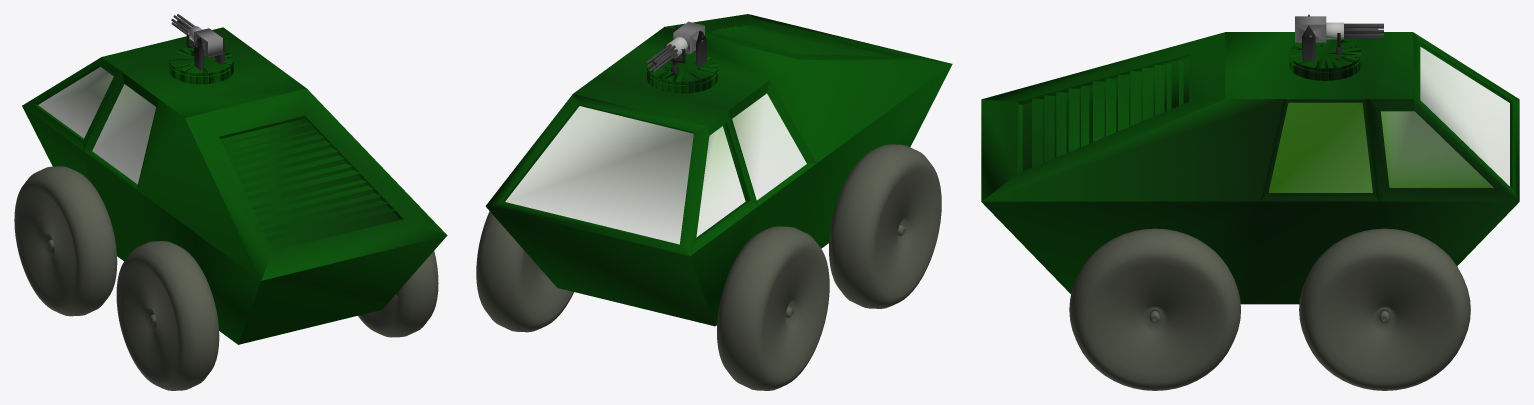
File: terrorist.fbx
3 views of the same model, side by side, from view 1: azimuth 30°, elevation 25°; view 2: azimuth 150°, elevation 25°; view 3: azimuth 270°, elevation 25° (orthographic). The views are drawn at different scales.
Visible parts, largest first — view 1: Cube_Material, Torus_003_None, Torus_002_None, Torus_001_None, Cube_001_Material_005, Grid_Material_003; view 2: Cube_Material, Torus_002_None, Torus_003_None, Torus_None, Grid_Material_003, Cube_001_Material_005, Cylinder_007_Material; view 3: Cube_Material, Torus_None, Torus_001_None, Cube_001_Material_005, Cylinder_007_Material, Grid_Material_003.
Boxes of the visible parts, left/top/right/bottom form: Cube_Material: left=22, top=27, right=447, bottom=344; Torus_003_None: left=116, top=241, right=219, bottom=390; Torus_002_None: left=14, top=166, right=117, bottom=316; Torus_001_None: left=358, top=251, right=438, bottom=337; Cube_001_Material_005: left=194, top=28, right=222, bottom=57; Grid_Material_003: left=186, top=32, right=224, bottom=69; Cube_Material: left=485, top=14, right=952, bottom=326; Torus_002_None: left=717, top=226, right=829, bottom=390; Torus_003_None: left=829, top=144, right=941, bottom=308; Torus_None: left=476, top=211, right=573, bottom=332; Grid_Material_003: left=664, top=25, right=706, bottom=72; Cube_001_Material_005: left=673, top=21, right=704, bottom=54; Cylinder_007_Material: left=647, top=44, right=677, bottom=71; Cube_Material: left=981, top=32, right=1519, bottom=304; Torus_None: left=1299, top=228, right=1470, bottom=390; Torus_001_None: left=1069, top=228, right=1240, bottom=390; Cube_001_Material_005: left=1295, top=16, right=1326, bottom=42; Cylinder_007_Material: left=1344, top=23, right=1383, bottom=38; Grid_Material_003: left=1302, top=14, right=1341, bottom=60.
Bounding box in the file's own units: 2.77 × 2.8 × 4.45.
